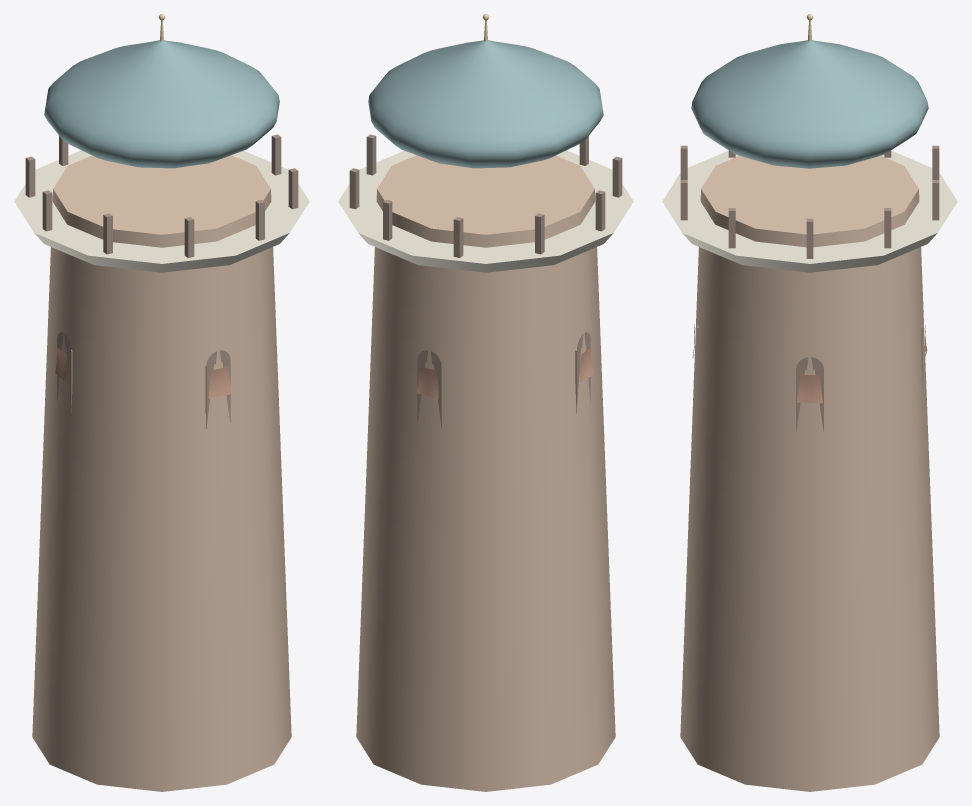
Rendered from prop-tower.glb.
3 renders of one model, left to right at view 1: azimuth 30°, elevation 25°; view 2: azimuth 150°, elevation 25°; view 3: azimuth 270°, elevation 25°, orthographic.
Parts seen in each view (by area): view 1: tower, Group_15, Group_27, Group_39; view 2: tower, Group_15, Group_35, Group_39; view 3: tower, Group_15, Group_31.
Part boxes in pixels (x1,y1,x2,y2): tower: [14, 134, 309, 791]; Group_15: [44, 14, 279, 168]; Group_27: [205, 350, 231, 428]; Group_39: [55, 332, 72, 413]; tower: [338, 134, 633, 791]; Group_15: [368, 14, 603, 168]; Group_35: [417, 350, 442, 428]; Group_39: [575, 332, 593, 413]; tower: [662, 145, 957, 791]; Group_15: [691, 14, 928, 168]; Group_31: [796, 357, 823, 431].
Bounding box in the file's own units: 6.84 × 18.46 × 6.84.
